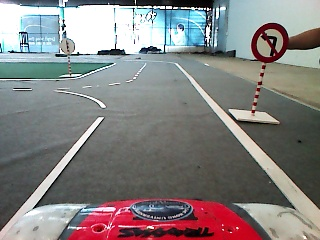ban: (250, 20, 291, 65)
